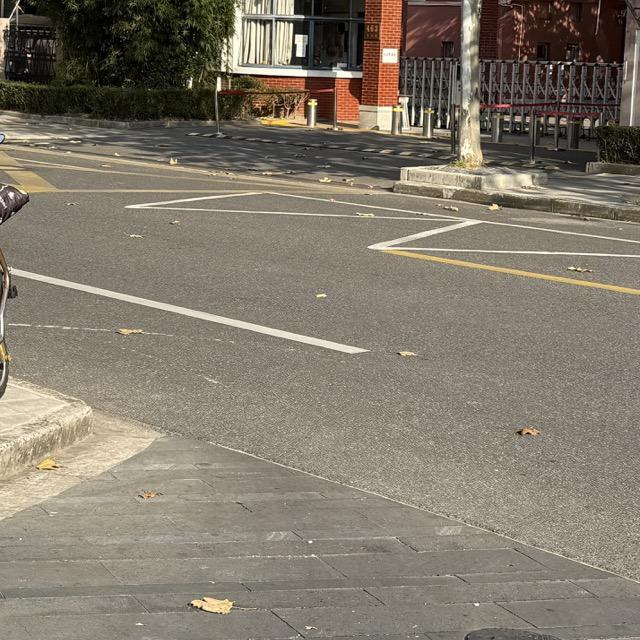curb: (393, 182, 639, 222), (0, 401, 91, 480), (0, 110, 213, 129), (399, 167, 547, 193)
